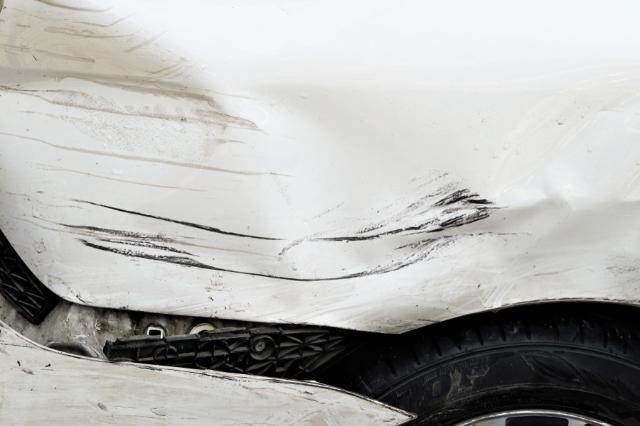Bumper: (0, 320, 419, 426)
Fender: (0, 0, 640, 321)
